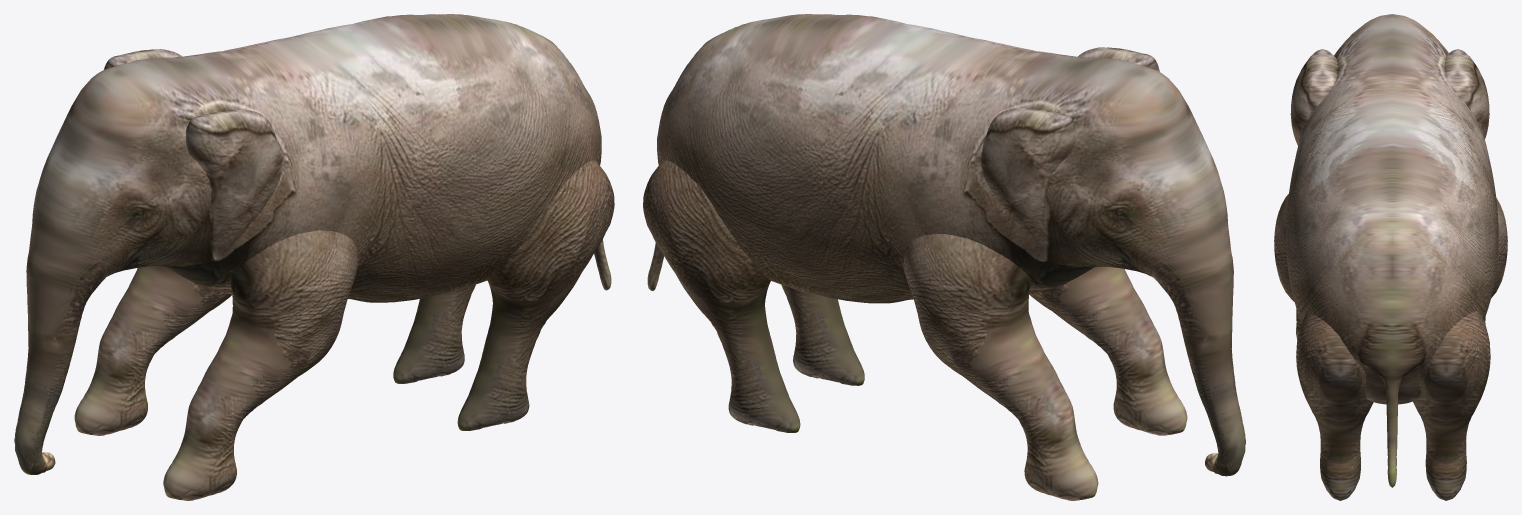
The model's file is asian-elephant.glb.
3 renders of one model, left to right at view 1: azimuth 30°, elevation 25°; view 2: azimuth 150°, elevation 25°; view 3: azimuth 270°, elevation 25°, orthographic. The views are drawn at different scales.
Parts seen in each view (by area): view 1: mm_frame (12); view 2: mm_frame (12); view 3: mm_frame (12).
Boxes of the visible parts, <box> form: mm_frame (12): <box>14,14,614,500</box>; mm_frame (12): <box>643,14,1245,500</box>; mm_frame (12): <box>1274,14,1507,500</box>.
Size of the model in its own units: 6.92 by 4.58 by 2.87.
1 material, 1 textured.
